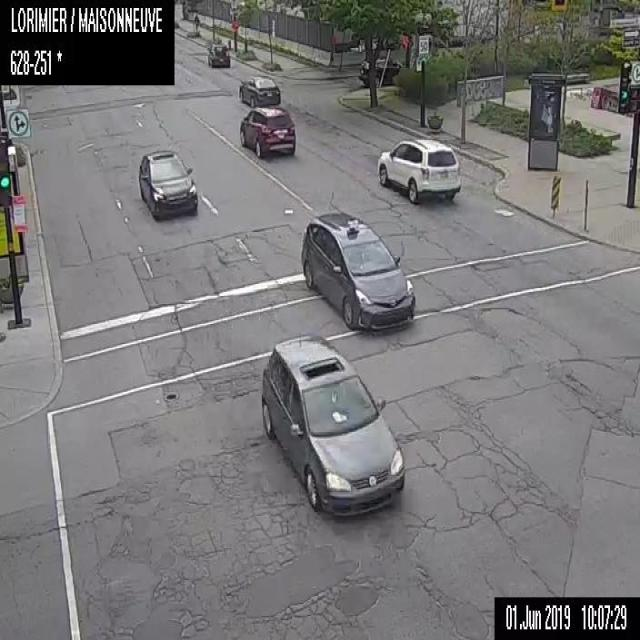pedestrian: (194, 14, 198, 32)
vehicle: (259, 337, 404, 516), (299, 210, 416, 330), (375, 139, 462, 204), (139, 149, 198, 220), (239, 106, 295, 159), (238, 76, 280, 107), (358, 55, 402, 84), (207, 41, 229, 67)
